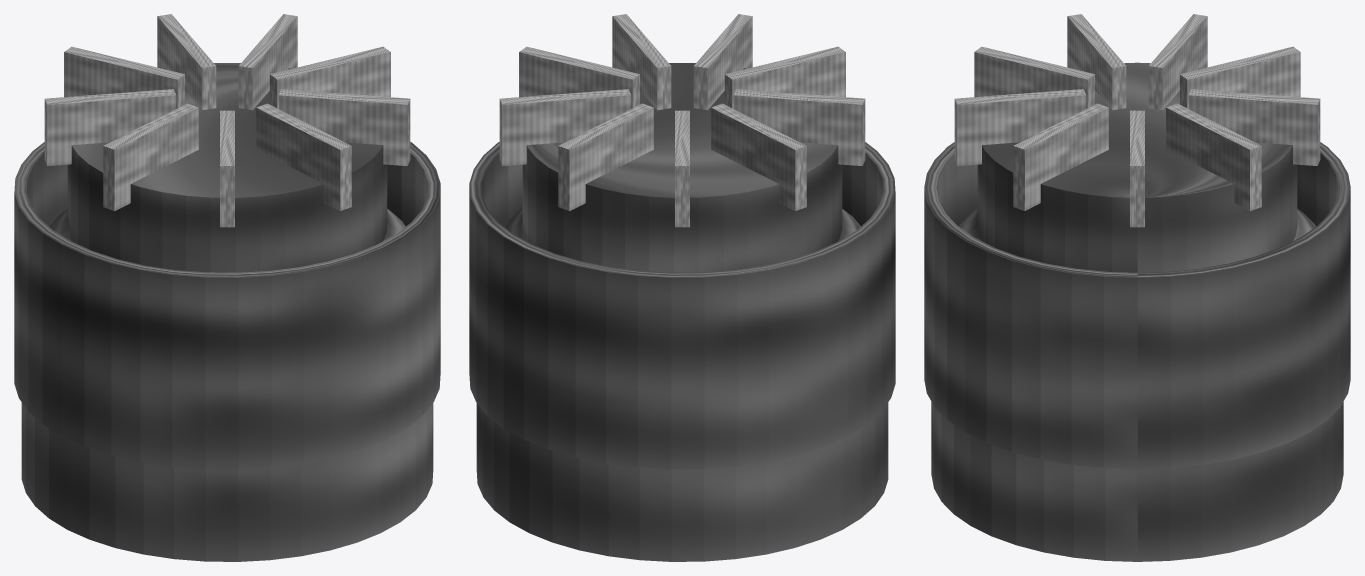
File: underworld-dais.glb
3 renders of one model, left to right at view 1: azimuth 30°, elevation 25°; view 2: azimuth 150°, elevation 25°; view 3: azimuth 270°, elevation 25°, orthographic.
Parts seen in each view (by area): view 1: underworld-dais; view 2: underworld-dais; view 3: underworld-dais.
Boxes of the visible parts, x1=… form: underworld-dais: x1=14, y1=14, x2=440, y2=561; underworld-dais: x1=469, y1=14, x2=895, y2=561; underworld-dais: x1=924, y1=14, x2=1350, y2=561.
Bounding box in the file's own units: 1 × 1 × 1.
1 material, 1 textured.
